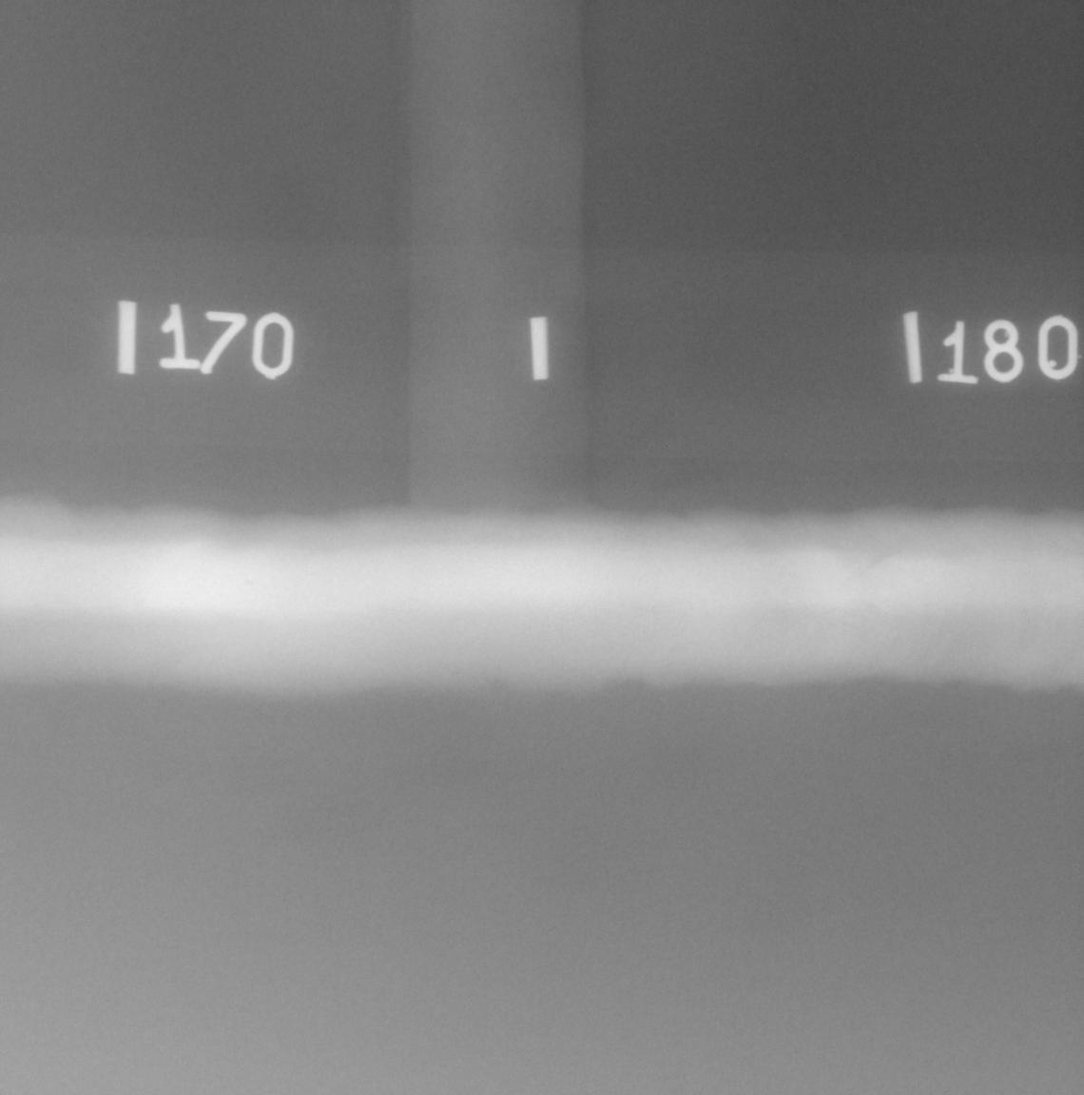Pore/Porosity: (245, 582, 253, 585)
